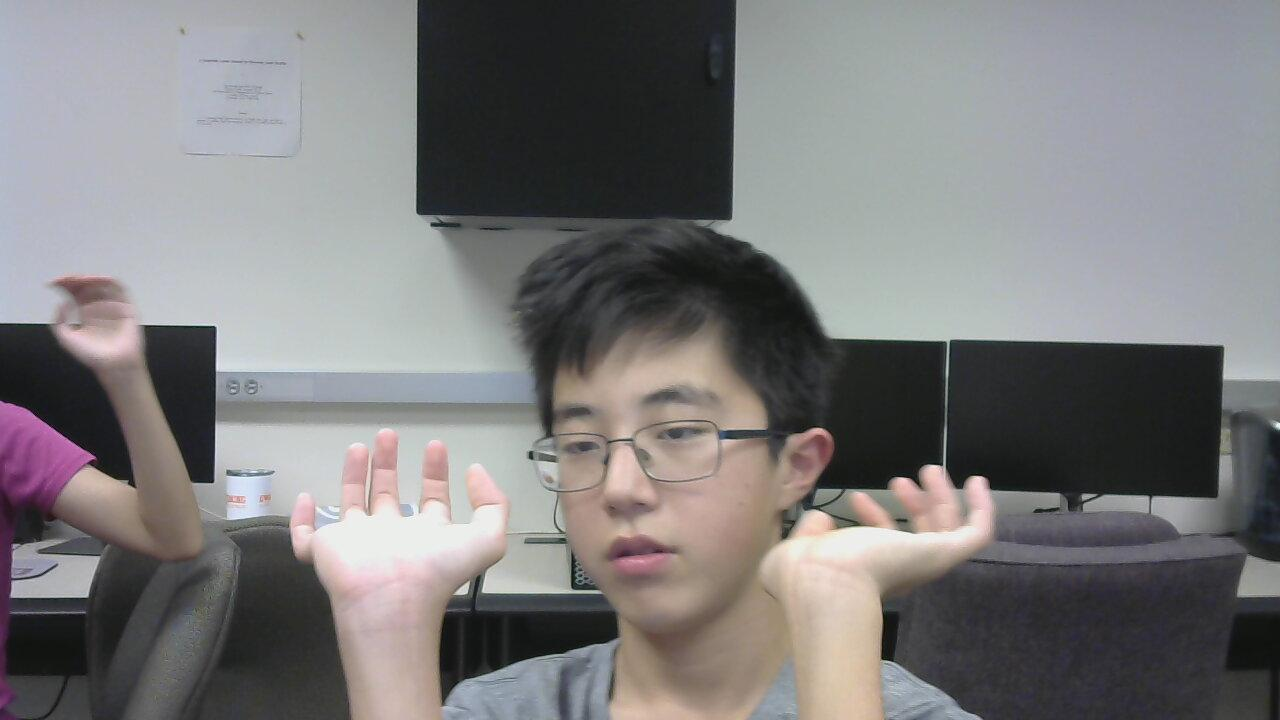hands: (283, 422, 530, 622), (760, 461, 994, 604), (32, 258, 162, 388)
